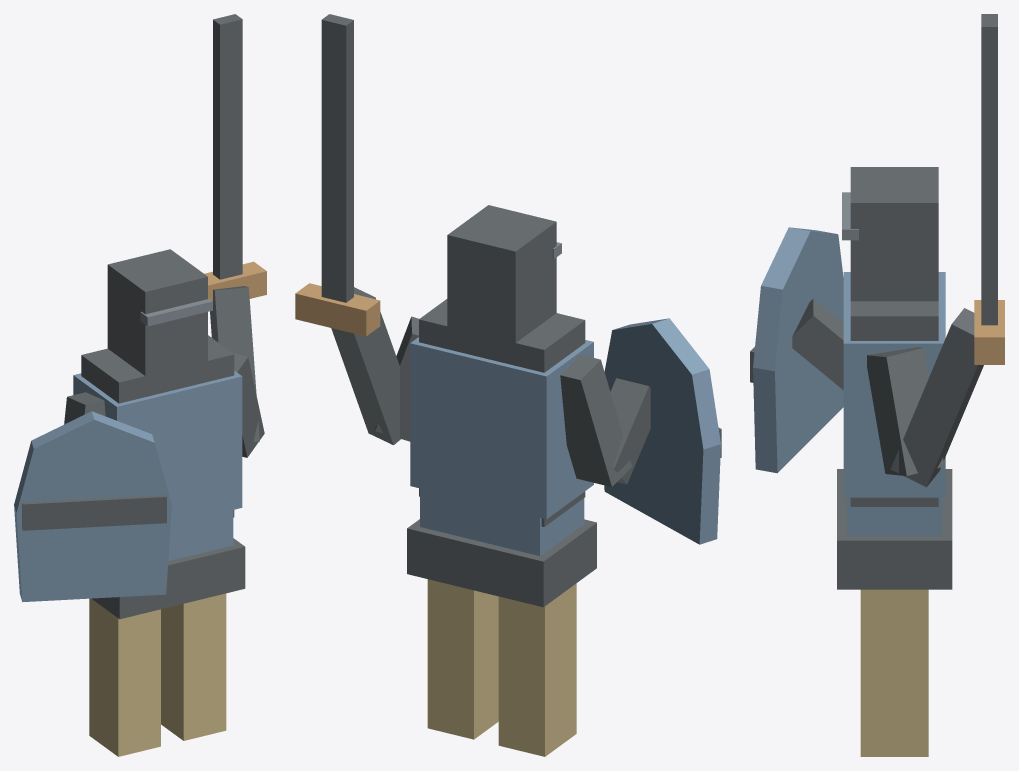
Rendered from man-at-arms.glb.
The picture shows the model from 3 angles, left to right: view 1: azimuth 30°, elevation 25°; view 2: azimuth 150°, elevation 25°; view 3: azimuth 270°, elevation 25°; orthographic projection. The views are drawn at different scales.
Parts seen in each view (by area): view 1: man-at-arms; view 2: man-at-arms; view 3: man-at-arms.
Part boxes in pixels (bbox=[...]): man-at-arms: bbox=[14, 14, 266, 756]; man-at-arms: bbox=[295, 14, 721, 756]; man-at-arms: bbox=[750, 14, 1004, 756].
Size of the model in its own units: 1.25 by 2.5 by 0.7511.
